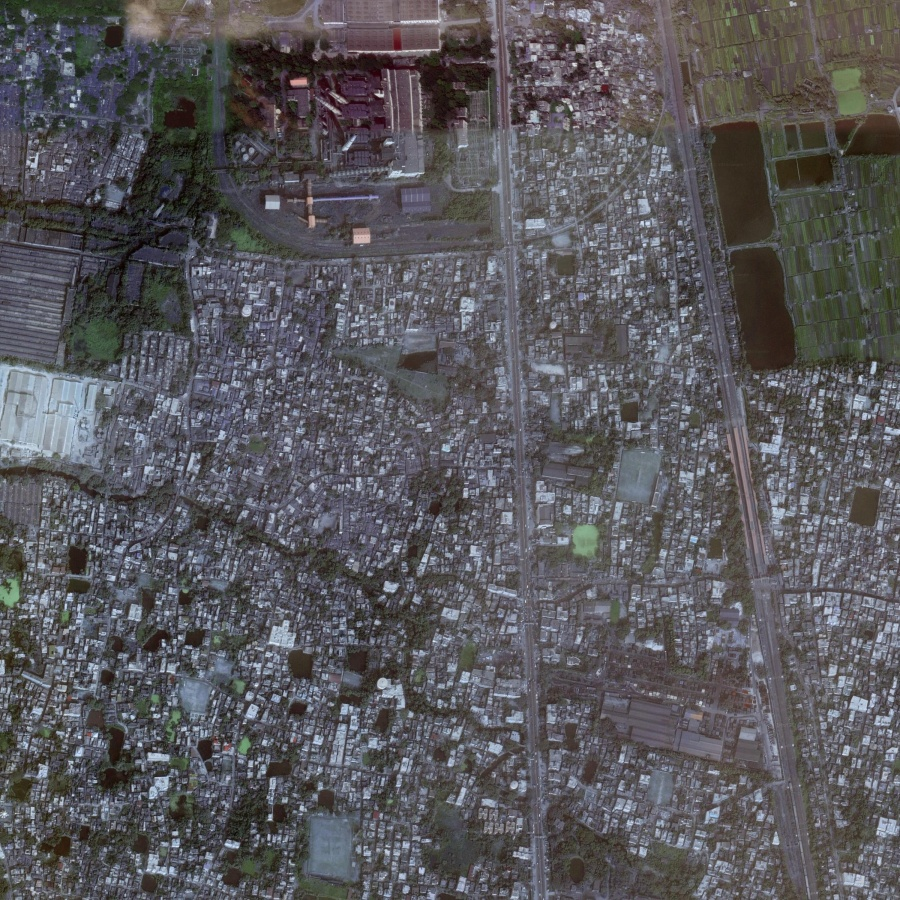PowerPlant: (219, 4, 464, 243)
